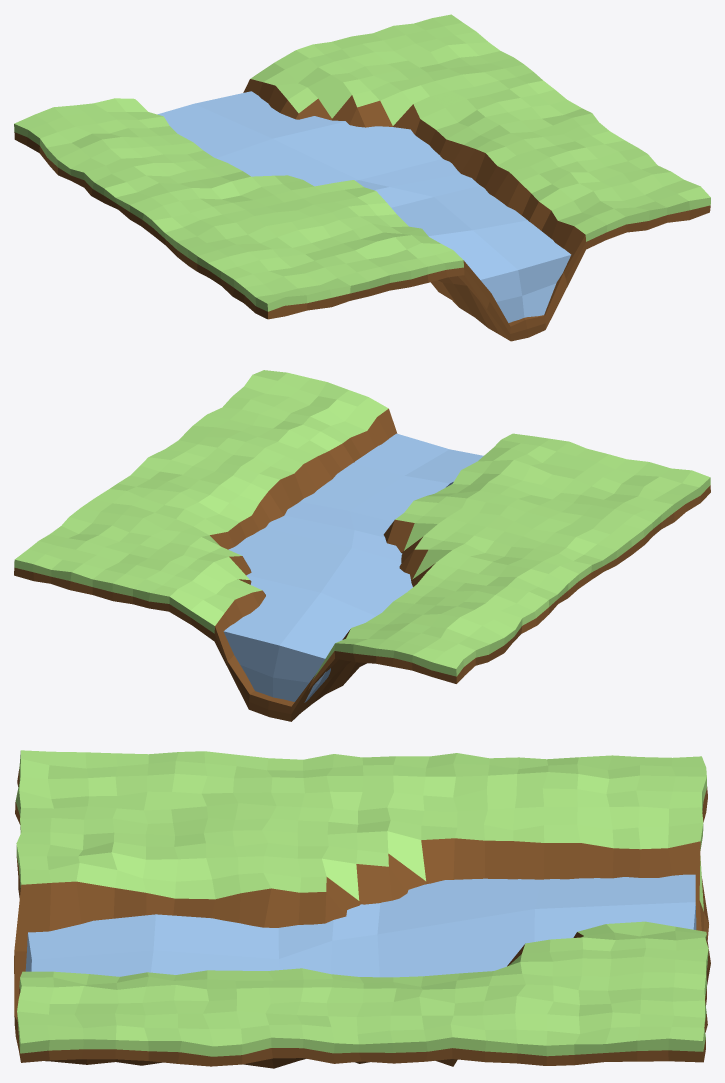
The model's file is ground.gltf.
3 views of the same model, one above another, from view 1: azimuth 30°, elevation 25°; view 2: azimuth 150°, elevation 25°; view 3: azimuth 270°, elevation 25° (orthographic). The views are drawn at different scales.
Visible parts, largest first — view 1: Plane, Plane.001; view 2: Plane, Plane.001; view 3: Plane, Plane.001.
Part boxes in pixels (x1=…): Plane: x1=14, y1=14, x2=710, y2=341; Plane.001: x1=157, y1=91, x2=571, y2=322; Plane: x1=14, y1=370, x2=710, y2=721; Plane.001: x1=223, y1=433, x2=483, y2=702; Plane: x1=14, y1=750, x2=710, y2=1068; Plane.001: x1=25, y1=874, x2=696, y2=977.
Bounding box in the file's own units: 6.1 × 1.35 × 6.12.
